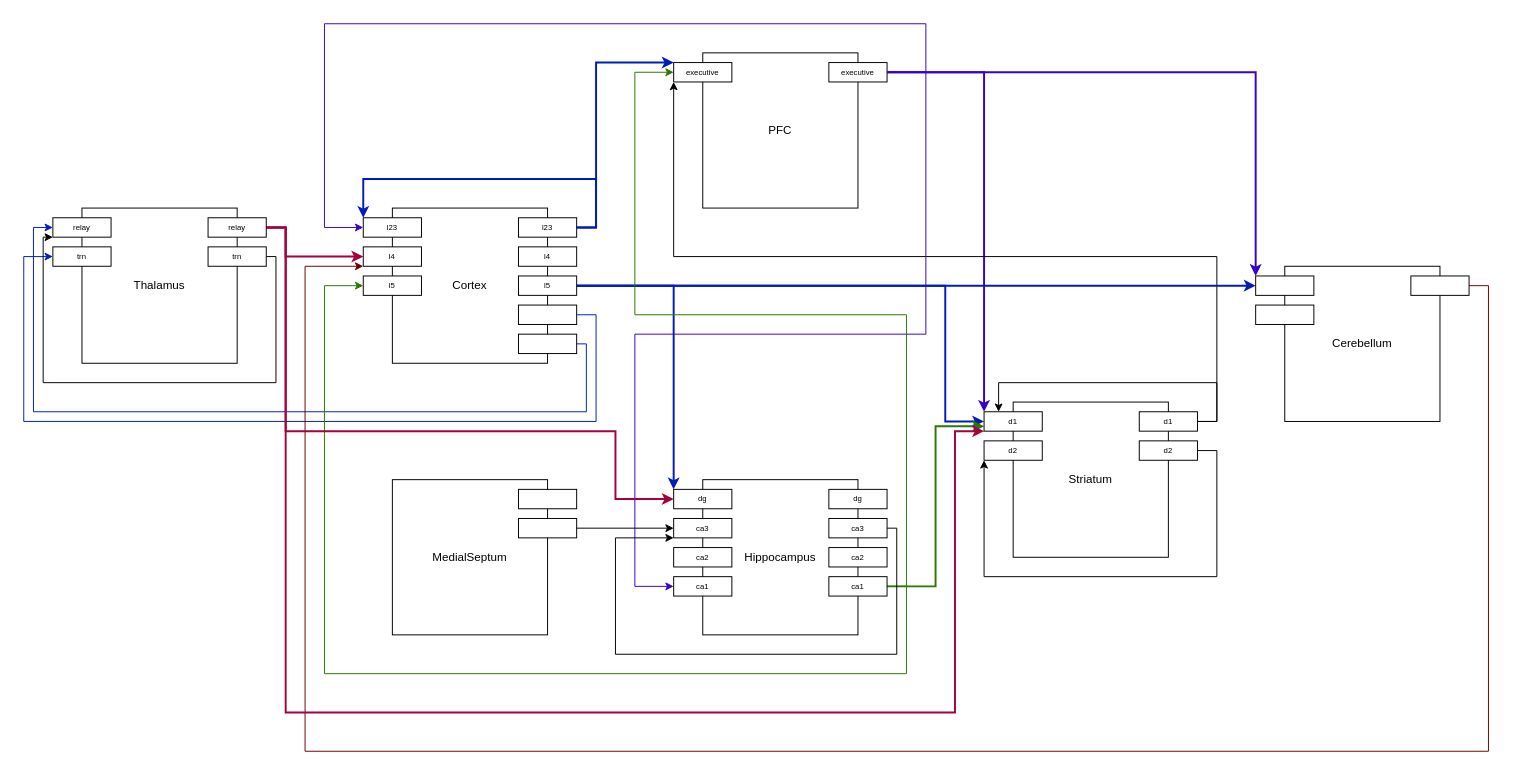
Image size: 1513x776. Some labels were removed from this diagram. The shapes that lost their labels are listed below. From the top down, each one's centre as x and y in pixels, then its label:
At point (1284, 285): "granule".
At point (1439, 285): "prediction".
At point (547, 314): "l6a".
At point (1284, 314): "purkinje".
At point (547, 343): "l6b".
At point (547, 498): "ach".
At point (547, 527): "gaba".
